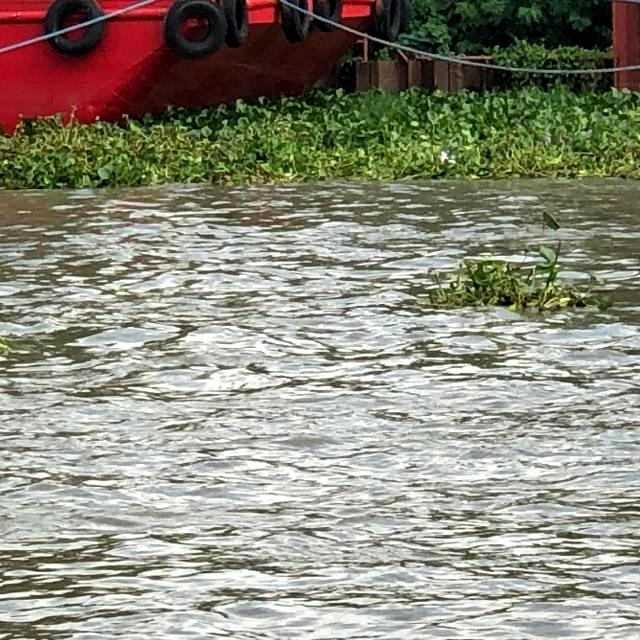water-hyacinth: (3, 86, 640, 184), (426, 241, 613, 316)
